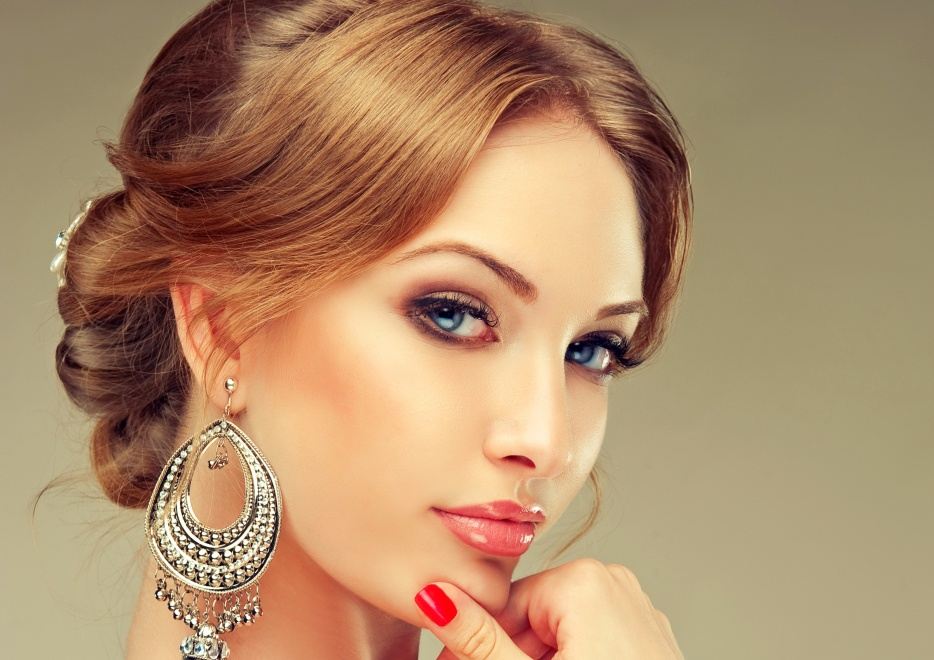Forehead: (388, 95, 649, 308)
